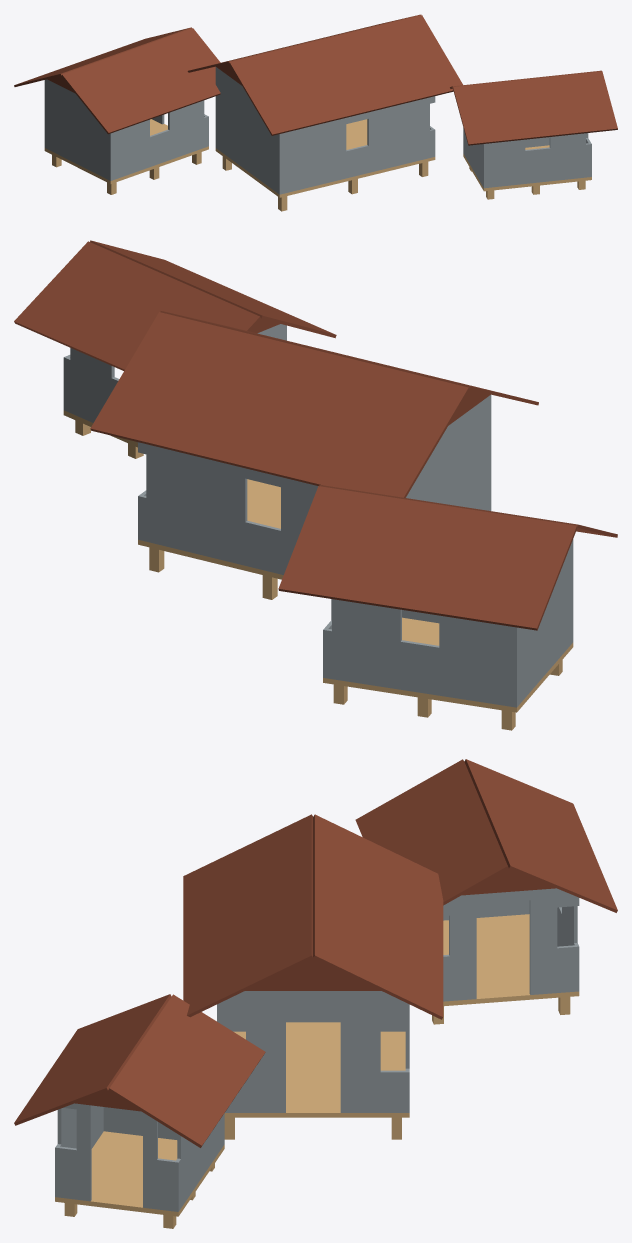
Rendered from tin_hamlet.glb.
The picture shows the model from 3 angles, top to bottom: view 1: azimuth 30°, elevation 25°; view 2: azimuth 150°, elevation 25°; view 3: azimuth 270°, elevation 25°; orthographic projection. The views are drawn at different scales.
Visible parts, largest first — view 1: roof_b, walls, roof_b.001, roof_b.002, walls.001, walls.002, floor, roof_f.001, floor.001, floor.002, roof_f; view 2: roof_f, roof_f.001, walls, walls.001, roof_f.002, walls.002, roof_b.002, floor.001, floor, roof_b, roof_b.001; view 3: roof_f, roof_b, walls, roof_f.002, roof_b.001, roof_f.001, walls.001, walls.002, roof_b.002, floor, floor.001, floor.002 (+2 smaller).
Part boxes in pixels (box(x1,y1,x2,y2)): roof_b: box(229, 15, 462, 135); walls: box(215, 67, 435, 194); roof_b.001: box(61, 28, 220, 134); roof_b.002: box(453, 71, 617, 145); walls.001: box(44, 79, 208, 180); walls.002: box(463, 128, 591, 188); floor: box(215, 119, 435, 197); roof_f.001: box(14, 27, 191, 86); floor.001: box(44, 119, 208, 183); floor.002: box(463, 145, 591, 191); roof_f: box(187, 14, 421, 72); roof_f: box(90, 312, 469, 497); roof_f.001: box(278, 486, 577, 630); walls: box(138, 395, 491, 574); walls.001: box(323, 539, 573, 707); roof_f.002: box(14, 241, 260, 370); walls.002: box(63, 324, 286, 442); roof_b.002: box(90, 240, 336, 338); floor.001: box(323, 617, 573, 712); floor: box(138, 479, 283, 579); roof_b: box(160, 311, 538, 405); roof_b.001: box(319, 485, 617, 537); roof_f: box(313, 814, 443, 1019); roof_b: box(183, 814, 313, 1017); walls: box(217, 991, 409, 1112); roof_f.002: box(108, 994, 265, 1147); roof_b.001: box(355, 759, 508, 905); roof_f.001: box(464, 759, 617, 912); walls.001: box(443, 888, 579, 1001); walls.002: box(55, 1103, 224, 1211); roof_b.002: box(14, 994, 171, 1125); floor: box(224, 1022, 409, 1117); floor.001: box(443, 914, 579, 1006); floor.002: box(55, 1131, 224, 1216).
Bounding box in the file's own units: 12.12 × 3.45 × 9.41.
